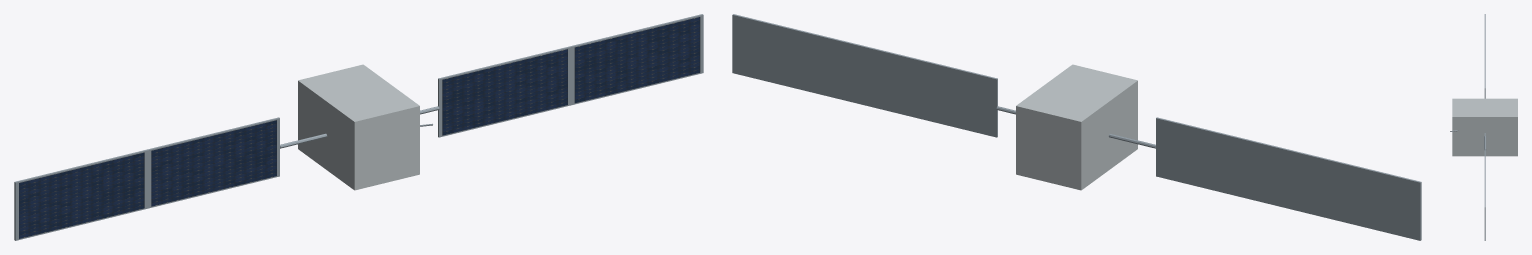
File: ref-chibis-38051.glb
3 views of the same model, side by side, from view 1: azimuth 30°, elevation 25°; view 2: azimuth 150°, elevation 25°; view 3: azimuth 270°, elevation 25° (orthographic). The views are drawn at different scales.
Parts seen in each view (by area): view 1: Photovoltaic laminates (×4), Spacecraft body, Array frame (×4); view 2: Array frame (×4), Spacecraft body; view 3: Spacecraft body, Array frame (×4).
Part boxes in pixels (x1,y1,x2,y2): Photovoltaic laminates (×4): [19, 17, 700, 238]; Spacecraft body: [298, 64, 419, 190]; Array frame (×4): [14, 14, 703, 240]; Array frame (×4): [732, 14, 1421, 240]; Spacecraft body: [1016, 64, 1137, 190]; Spacecraft body: [1452, 98, 1517, 156]; Array frame (×4): [1484, 14, 1485, 240].
Size of the model in its own units: 4.2 by 0.4 by 0.6214.
Materials: 3 (1 with a texture image).
